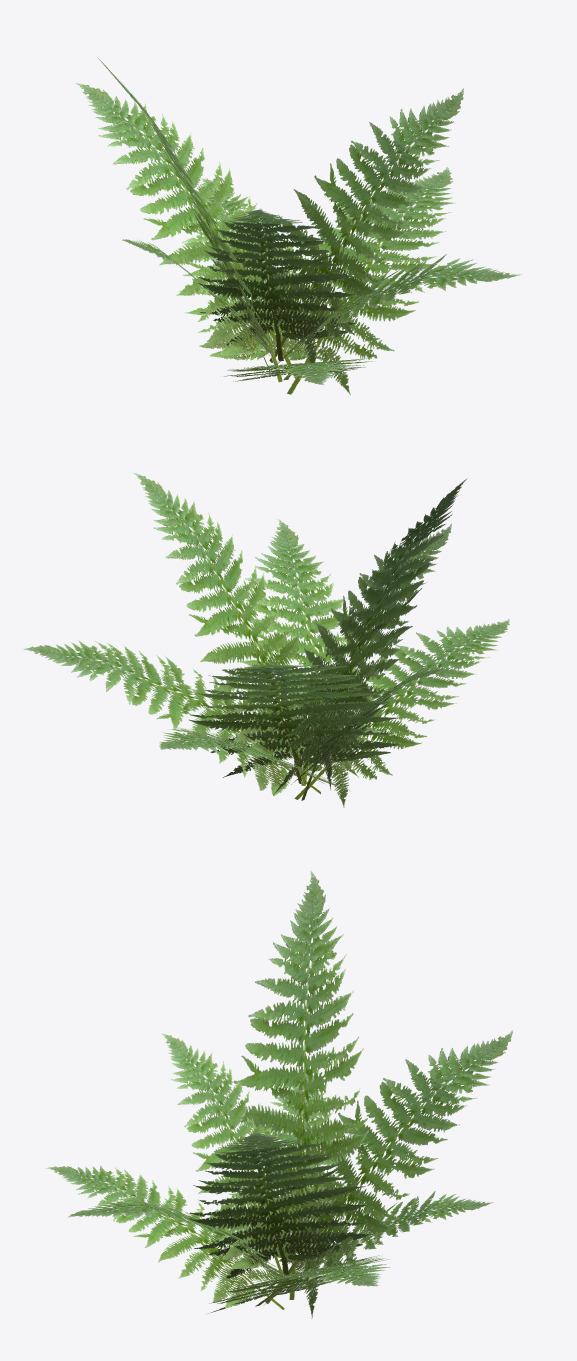
Rendered from Fern2.fbx.
The picture shows the model from 3 angles, top to bottom: view 1: azimuth 30°, elevation 25°; view 2: azimuth 150°, elevation 25°; view 3: azimuth 270°, elevation 25°; orthographic projection. The views are drawn at different scales.
Visible parts, largest first — view 1: Fern2; view 2: Fern2; view 3: Fern2.
Boxes of the visible parts, x1=… form: Fern2: x1=75, y1=56, x2=521, y2=395; Fern2: x1=23, y1=472, x2=509, y2=807; Fern2: x1=46, y1=871, x2=512, y2=1318.
Size of the model in its own units: 180 by 148 by 199.
